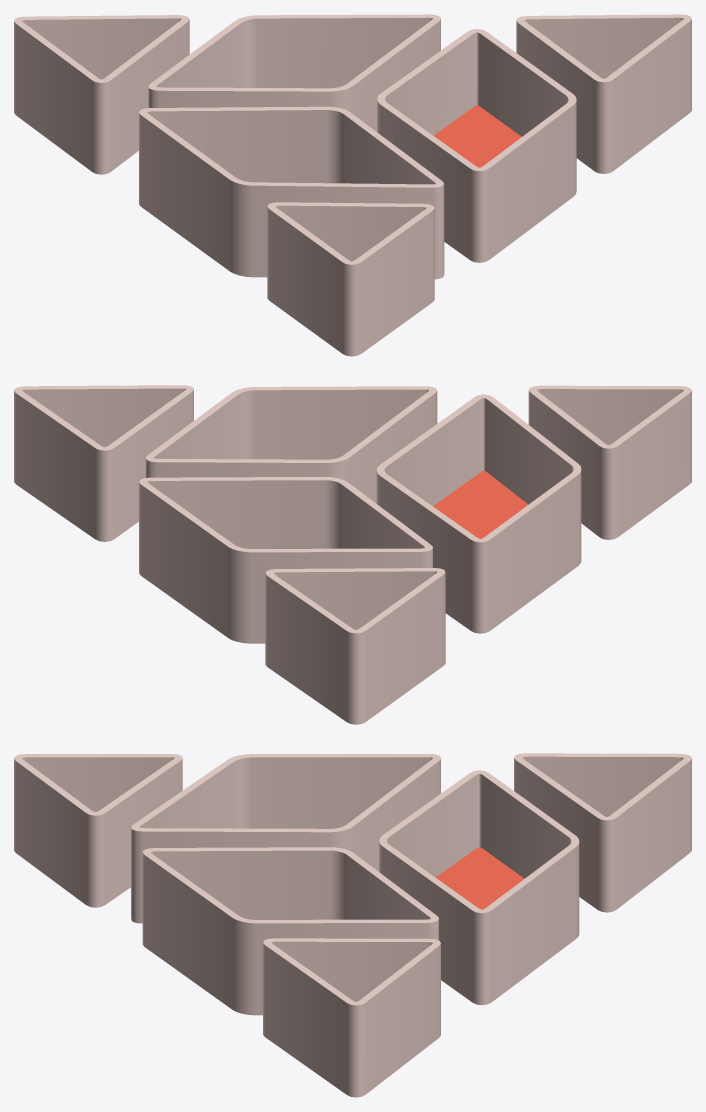
File: three-model.glb
3 renders of one model, top to bottom at view 1: azimuth 30°, elevation 25°; view 2: azimuth 150°, elevation 25°; view 3: azimuth 270°, elevation 25°, orthographic.
Parts seen in each view (by area): view 1: boxBase, boxBack; view 2: boxBase, boxBack; view 3: boxBase, boxBack.
Part boxes in pixels (bbox=[...]): boxBase: bbox=[14, 14, 691, 356]; boxBack: bbox=[433, 105, 521, 167]; boxBase: bbox=[14, 385, 691, 724]; boxBack: bbox=[433, 471, 528, 538]; boxBase: bbox=[14, 753, 691, 1097]; boxBack: bbox=[436, 847, 524, 909].
Bounding box in the file's own units: 6.01 × 1.02 × 6.83.
